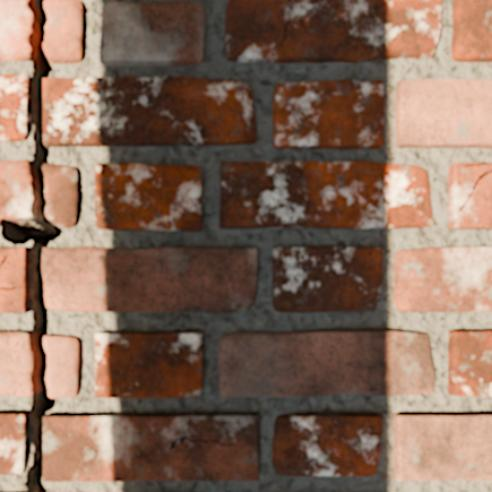brick: (45, 77, 255, 146), (44, 414, 257, 481), (220, 162, 433, 228), (218, 331, 434, 396), (43, 248, 256, 313), (226, 0, 442, 62), (273, 81, 383, 149), (96, 164, 202, 231), (273, 248, 382, 312), (96, 334, 202, 398), (273, 414, 382, 476), (100, 3, 205, 65), (396, 80, 491, 148), (394, 414, 491, 480), (394, 248, 491, 312), (449, 163, 491, 229), (449, 331, 491, 395), (452, 0, 491, 62), (0, 75, 30, 141), (0, 248, 28, 313), (0, 413, 28, 473)
broken_brick: (45, 0, 85, 65), (45, 163, 81, 229), (46, 334, 82, 399), (0, 159, 32, 227), (0, 331, 32, 397), (0, 0, 32, 61)
crack: (1, 0, 64, 491), (459, 170, 491, 213), (280, 0, 308, 49), (461, 162, 491, 168)
